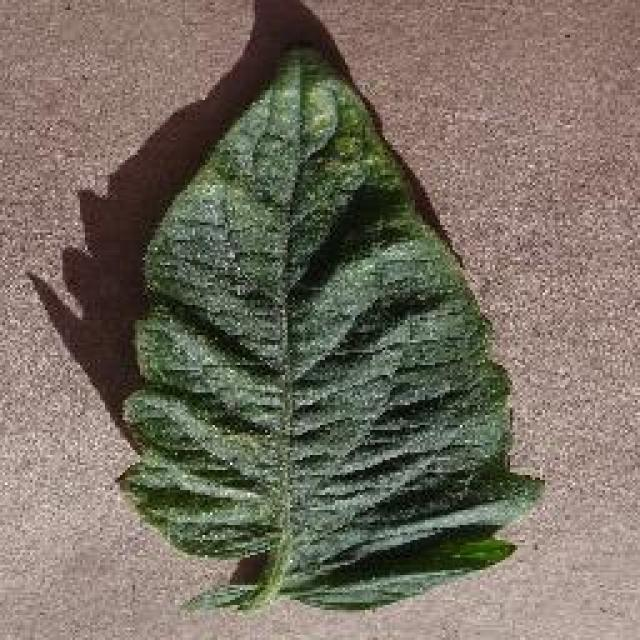Tomato mosaic virus leaf: (110, 25, 548, 617)
